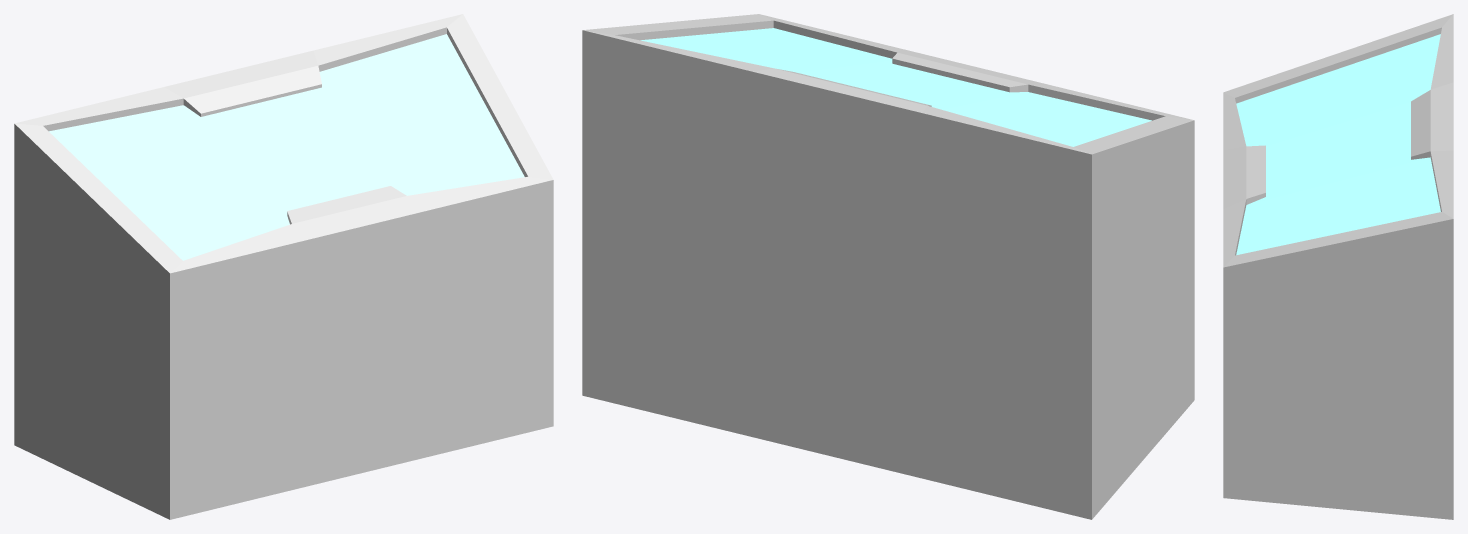
The model's file is Console panel.fbx.
3 views of the same model, side by side, from view 1: azimuth 30°, elevation 25°; view 2: azimuth 150°, elevation 25°; view 3: azimuth 270°, elevation 25° (orthographic). The views are drawn at different scales.
Visible parts, largest first — view 1: Cube.049; view 2: Cube.049; view 3: Cube.049.
Boxes of the visible parts, bbox=[...] form: Cube.049: bbox=[14, 14, 553, 519]; Cube.049: bbox=[582, 14, 1194, 519]; Cube.049: bbox=[1223, 14, 1453, 519].
Size of the model in its own units: 211 by 144 by 100.
